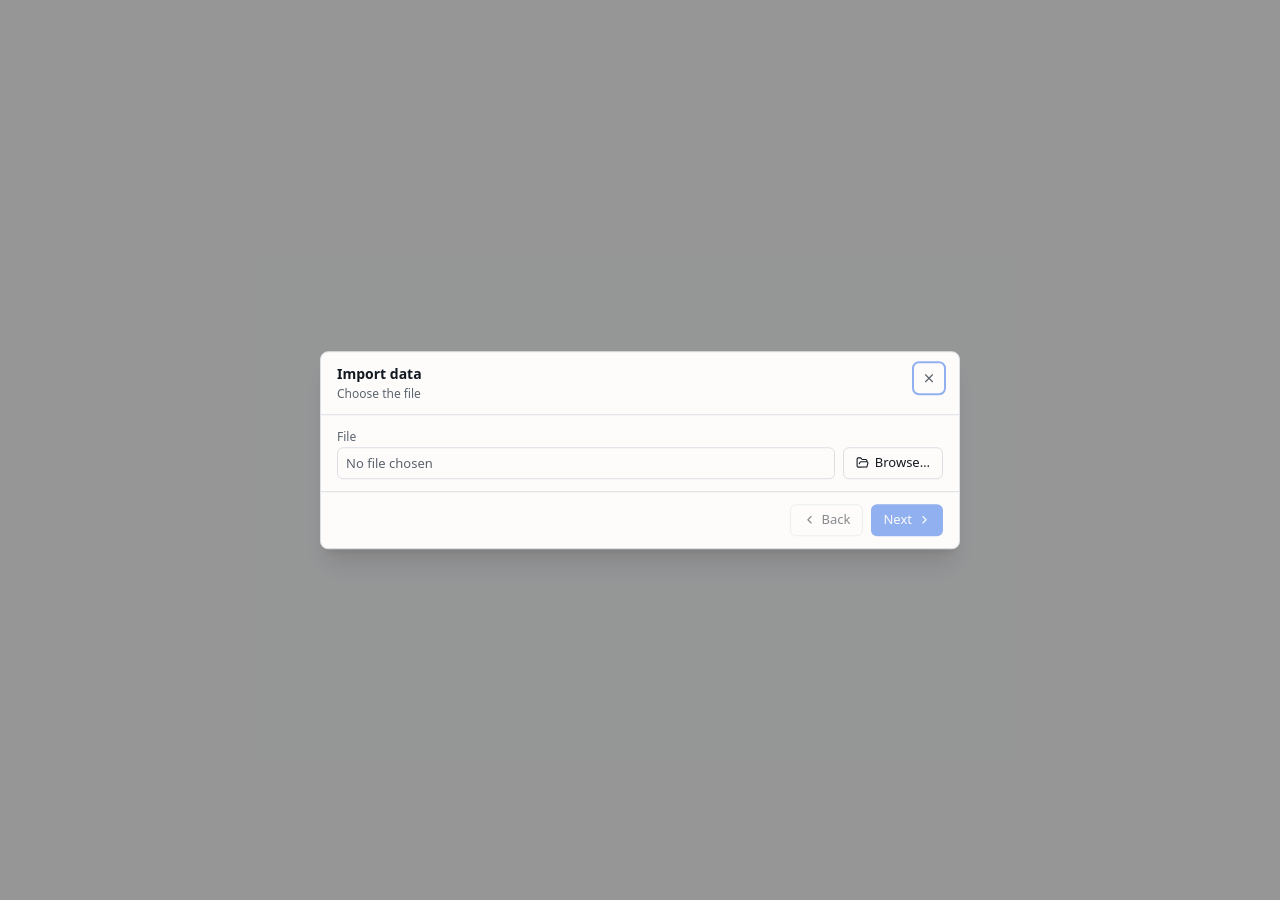
Test case: ImportWizard › asks the user to type the confirmation text on a production connection
Later steps or results of the test are not shown.
Click the button "Browse…" at [893, 463], box 843,447 -> 943,479
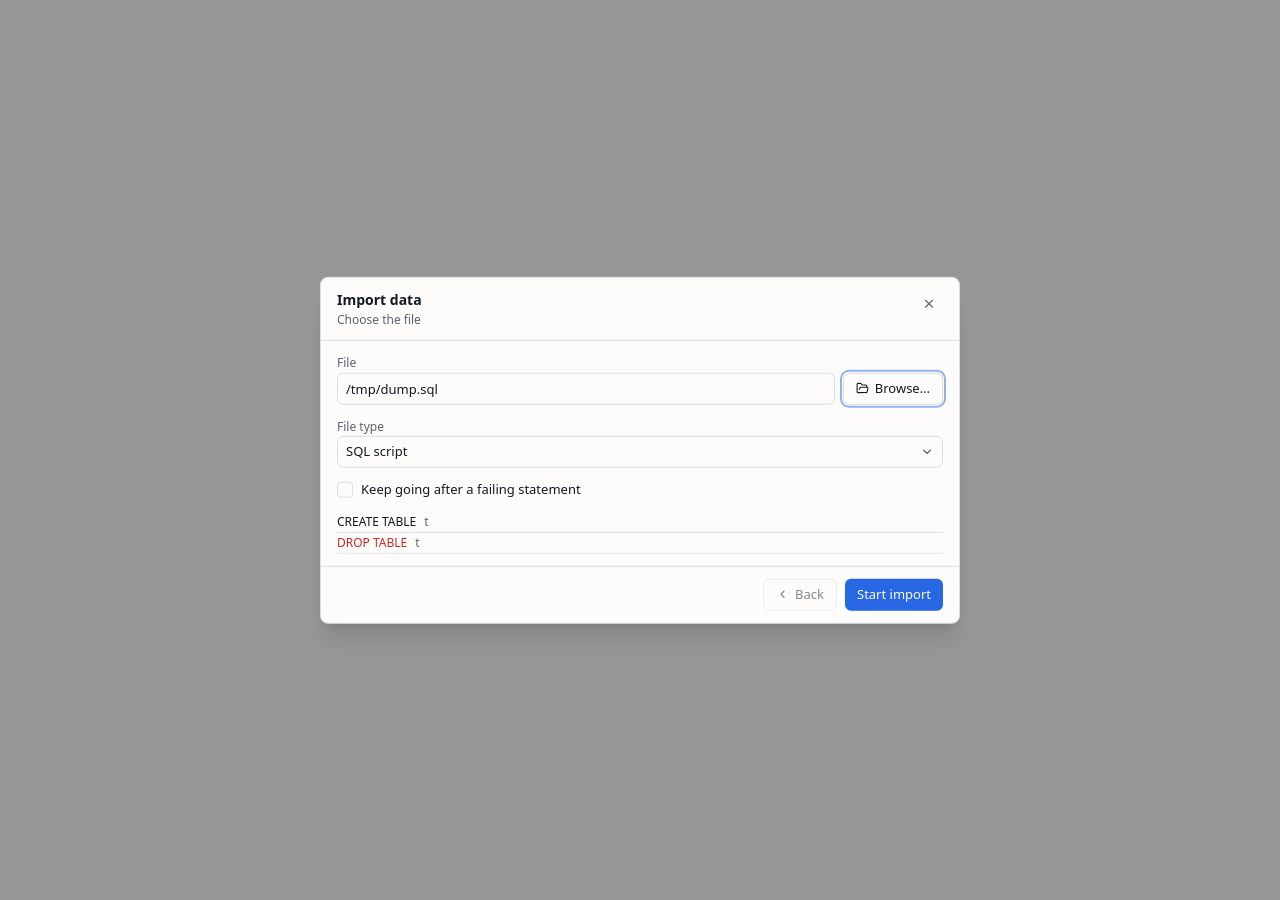
expect the field labelled "File" holds "/tmp/dump.sql": met, box 337,372 -> 835,404
expect the list with test id "import-statements" is shown: met, box 337,511 -> 943,553
Click the button "Start import" at [894, 594], box 845,578 -> 943,610
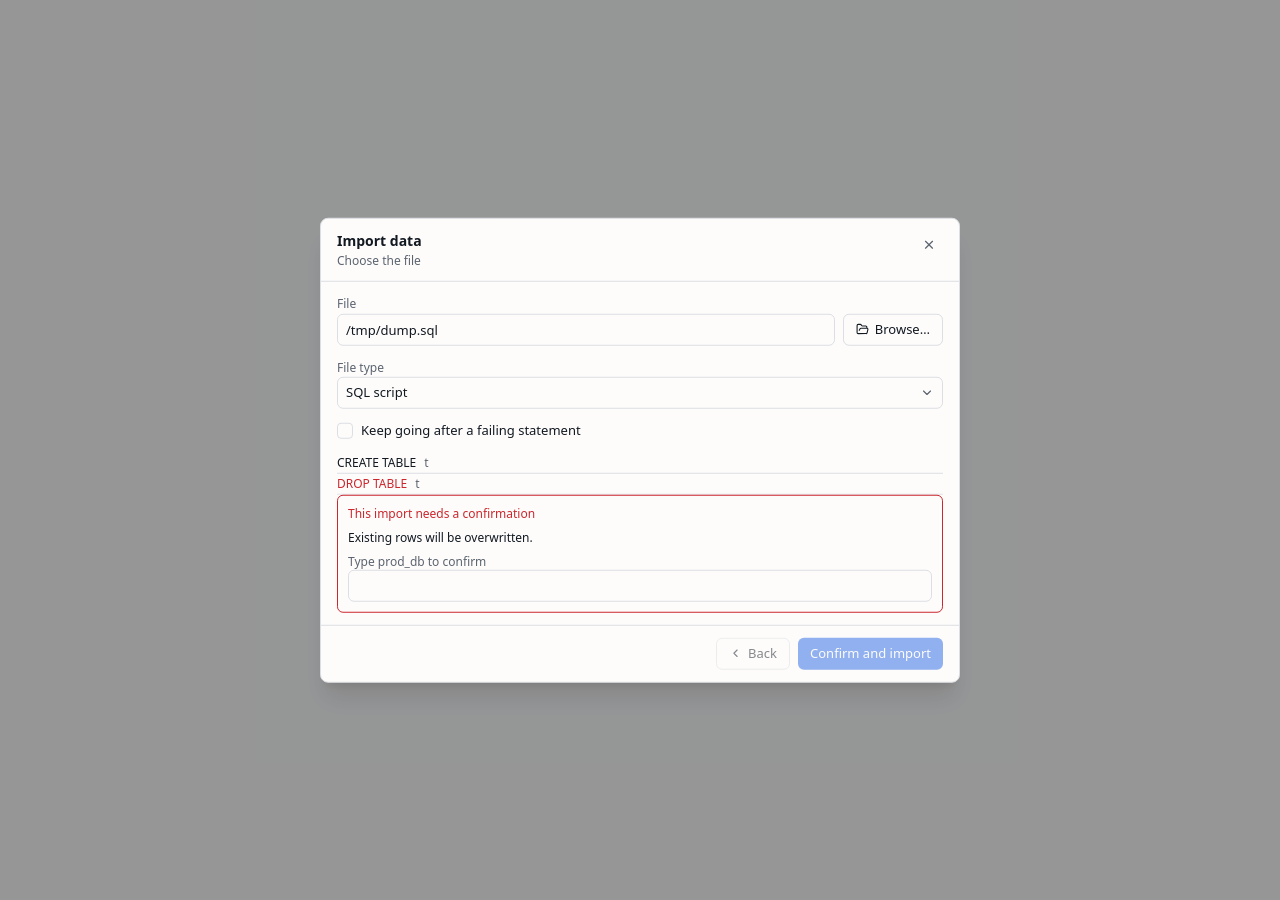
expect the message with test id "import-confirm" shows "Type prod_db to confirm": met, box 348,552 -> 486,569
expect the button "Confirm and import" is disabled: met, box 798,637 -> 943,669
